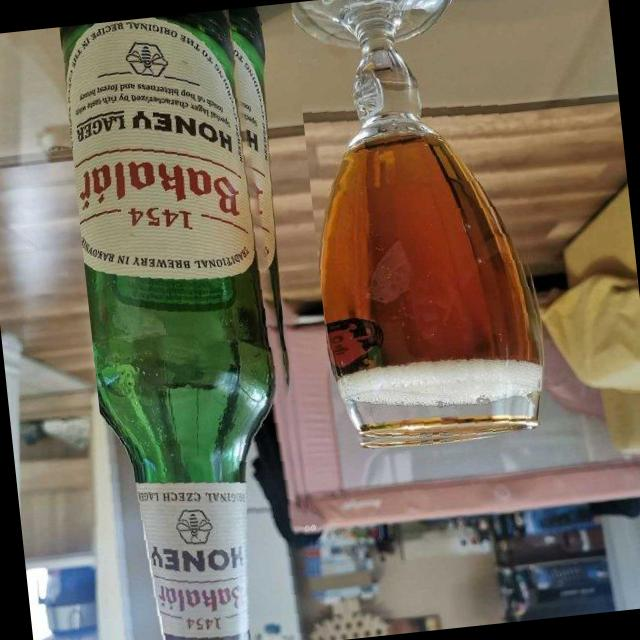Glass: (57, 4, 326, 640), (290, 0, 552, 455)
